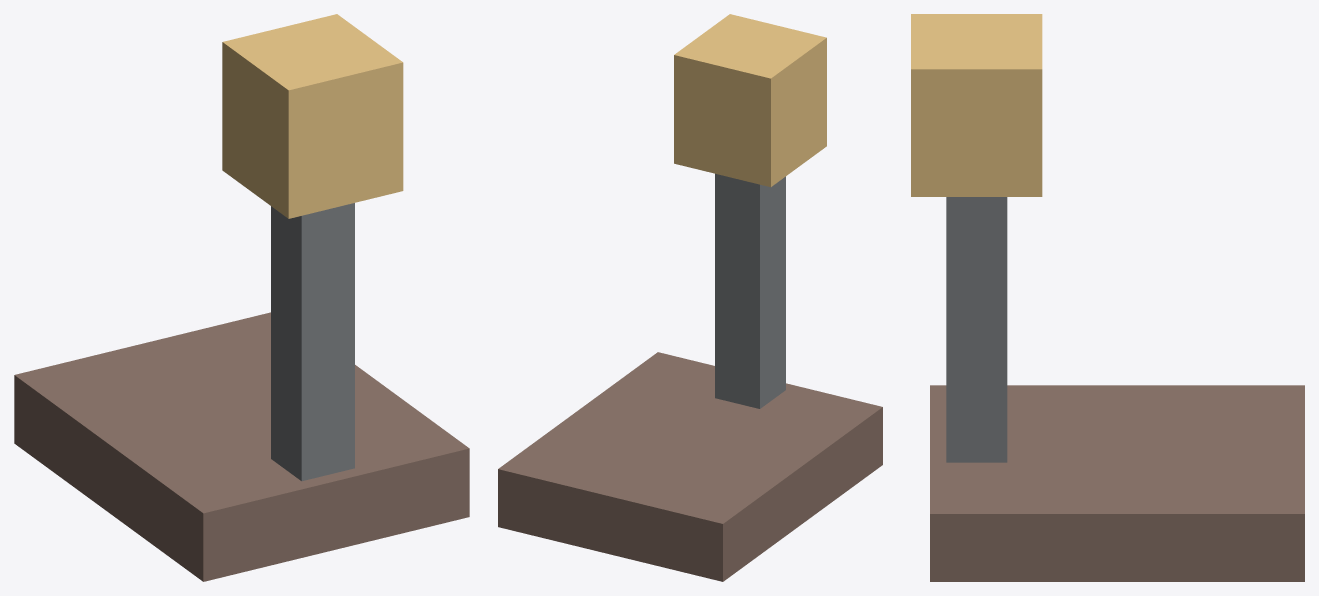
Rendered from hanging_wall_torch.glb.
3 views of the same model, side by side, from view 1: azimuth 30°, elevation 25°; view 2: azimuth 150°, elevation 25°; view 3: azimuth 270°, elevation 25° (orthographic). The views are drawn at different scales.
Parts seen in each view (by area): view 1: wood_dark, cloth_gold, iron; view 2: wood_dark, cloth_gold, iron; view 3: wood_dark, cloth_gold, iron.
Part boxes in pixels (bbox=[...]): wood_dark: bbox=[14, 312, 469, 581]; cloth_gold: bbox=[222, 14, 403, 218]; iron: bbox=[271, 203, 354, 481]; wood_dark: bbox=[498, 352, 882, 581]; cloth_gold: bbox=[674, 14, 826, 187]; iron: bbox=[715, 173, 785, 408]; wood_dark: bbox=[930, 385, 1304, 581]; cloth_gold: bbox=[911, 14, 1042, 196]; iron: bbox=[946, 197, 1007, 462].
Bounding box in the file's own units: 0.65 × 1.12 × 0.84.
